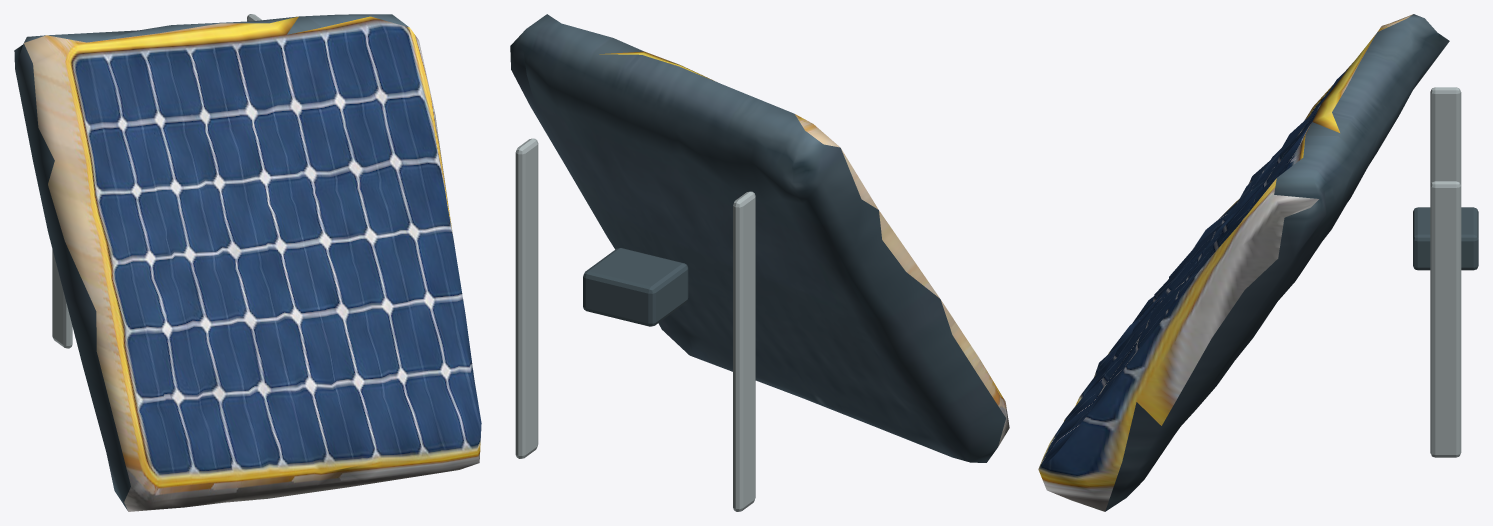
File: panel.glb
3 views of the same model, side by side, from view 1: azimuth 30°, elevation 25°; view 2: azimuth 150°, elevation 25°; view 3: azimuth 270°, elevation 25° (orthographic). The views are drawn at different scales.
Parts seen in each view (by area): view 1: panel; view 2: panel; view 3: panel.
Part boxes in pixels (x1,y1,x2,y2): panel: (14,14,481,511); panel: (510,14,1009,511); panel: (1038,14,1478,511).
Bounding box in the file's own units: 1 × 1 × 1.07.
Materials: 4 (2 with a texture image).
